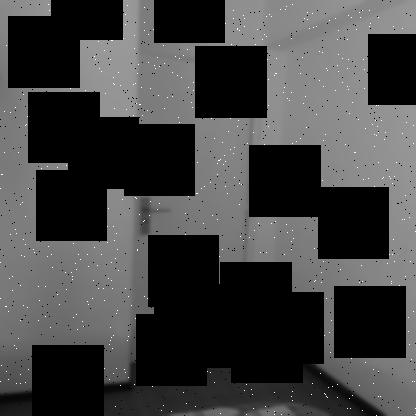Porte: (92, 48, 266, 367)
